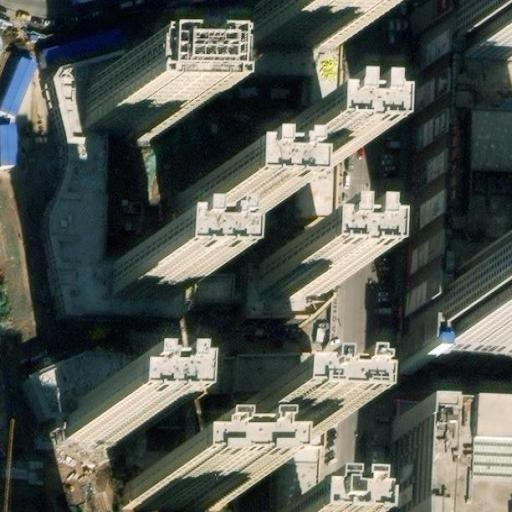building: (399, 50, 512, 382), (49, 56, 182, 330), (383, 428, 512, 512), (399, 299, 509, 384), (403, 19, 512, 101), (240, 12, 329, 64), (78, 99, 166, 146), (132, 470, 225, 512), (227, 420, 315, 457), (174, 188, 241, 233), (255, 256, 326, 297), (254, 140, 321, 182), (107, 255, 173, 295), (75, 412, 139, 452), (0, 447, 36, 490), (0, 122, 14, 170)
